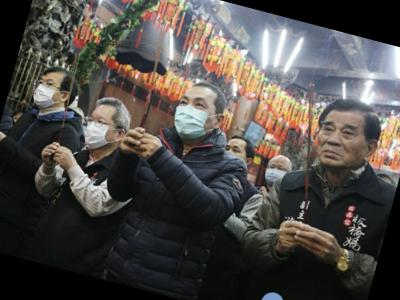with_mask: (170, 90, 223, 145), (80, 111, 121, 154), (29, 75, 68, 114), (263, 160, 290, 188)
without_mask: (310, 116, 377, 177)
